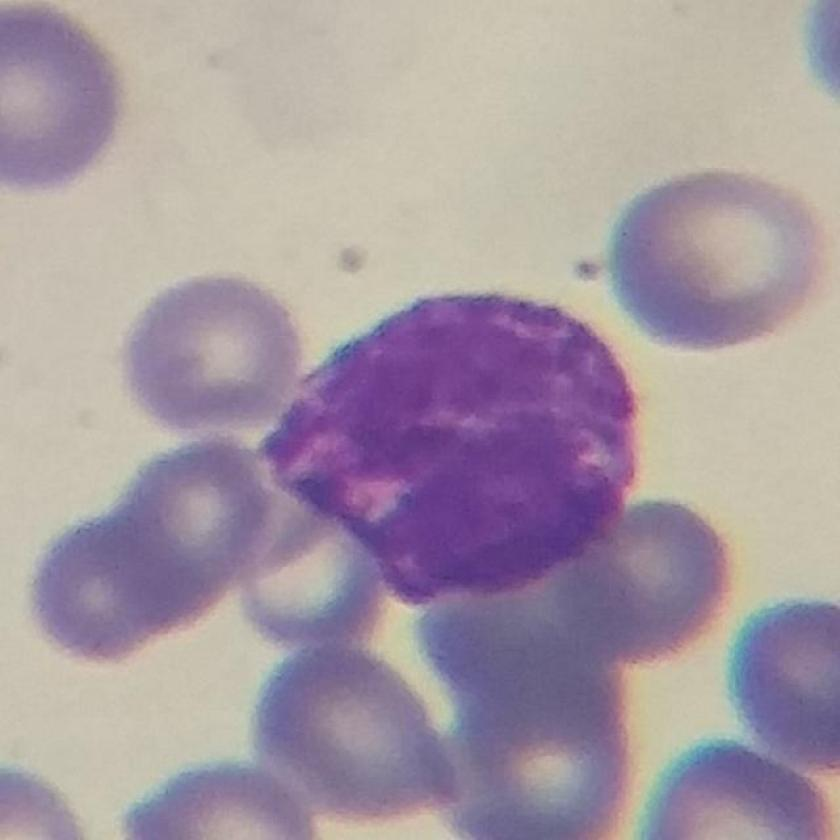basophil: (258, 277, 664, 600)
